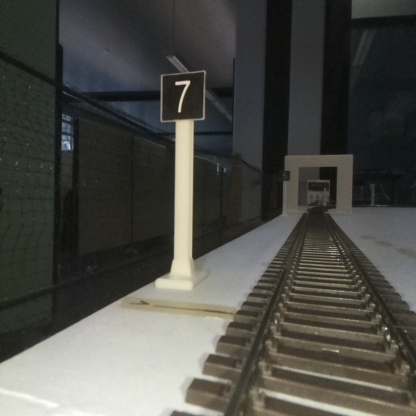black-info-6: (279, 170, 289, 216)
black-info-7: (161, 70, 204, 286)
